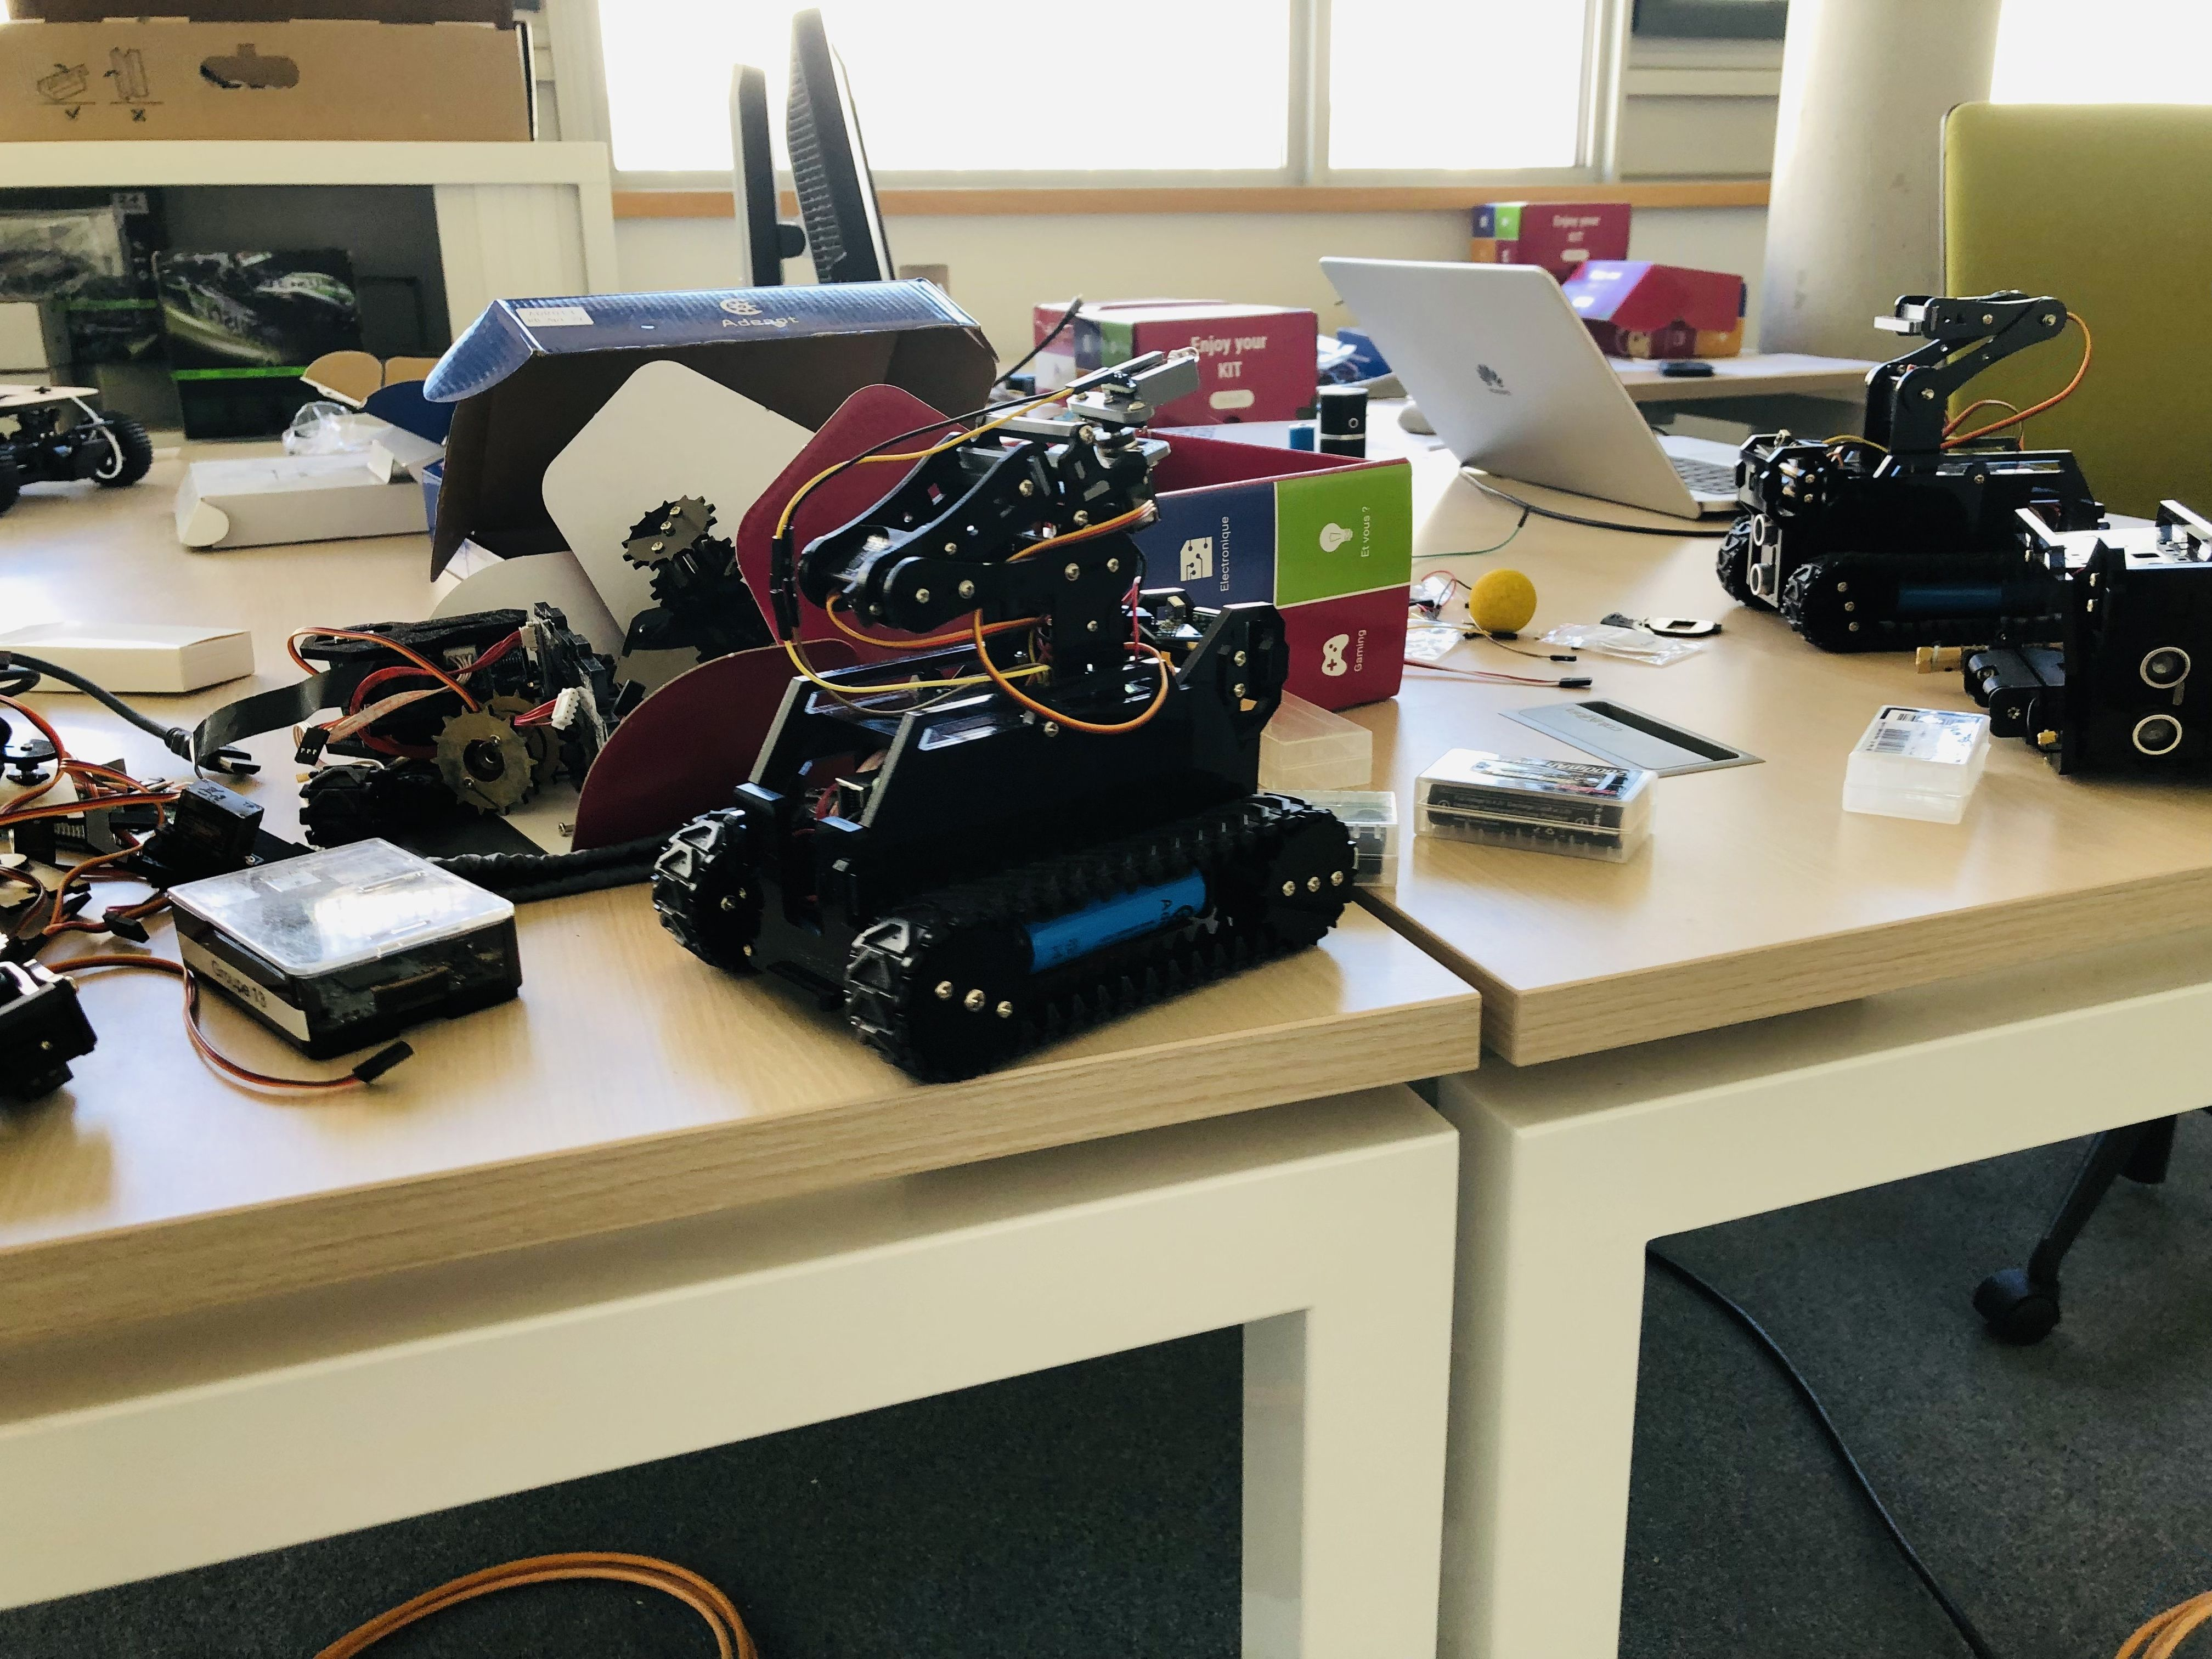rasptank: (648, 340, 1364, 1091)
